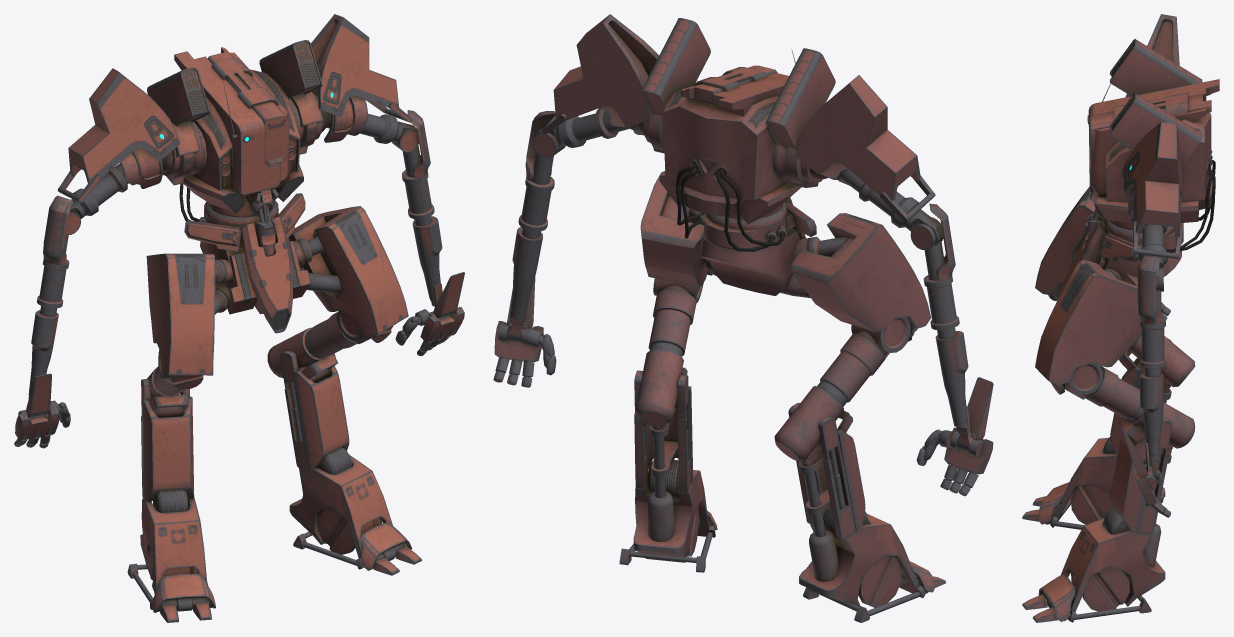
File: q-35_mecha.glb
The picture shows the model from 3 angles, left to right: view 1: azimuth 30°, elevation 25°; view 2: azimuth 150°, elevation 25°; view 3: azimuth 270°, elevation 25°; orthographic projection. The views are drawn at different scales.
Visible parts, largest first — view 1: i_low, h_low, m_low, a_low, r_low, l_low, p_low, j_low, k_low, q_low, n_low; view 2: i_low, m_low, h_low, r_low, a_low, p_low, l_low, g_low, j_low, q_low, n_low; view 3: i_low, m_low, h_low, a_low, r_low, p_low, g_low, k_low, n_low, q_low.
Part boxes in pixels (<box>): i_low: <box>127,193,421,622</box>; h_low: <box>14,95,464,448</box>; m_low: <box>68,14,399,183</box>; a_low: <box>174,47,289,314</box>; r_low: <box>183,69,303,213</box>; l_low: <box>162,91,322,185</box>; p_low: <box>141,351,326,500</box>; j_low: <box>214,236,340,314</box>; k_low: <box>149,326,392,411</box>; q_low: <box>153,447,352,512</box>; n_low: <box>211,58,278,109</box>; i_low: <box>619,171,945,622</box>; m_low: <box>553,14,920,200</box>; h_low: <box>493,106,993,496</box>; r_low: <box>659,87,801,224</box>; a_low: <box>681,65,799,295</box>; p_low: <box>634,370,855,538</box>; l_low: <box>643,112,822,187</box>; g_low: <box>676,163,783,251</box>; j_low: <box>689,208,847,297</box>; q_low: <box>647,460,868,540</box>; n_low: <box>693,67,767,91</box>; i_low: <box>1022,186,1195,622</box>; m_low: <box>1109,14,1202,240</box>; h_low: <box>1121,186,1183,517</box>; a_low: <box>1087,79,1219,279</box>; r_low: <box>1096,112,1212,223</box>; p_low: <box>1137,338,1172,534</box>; g_low: <box>1165,155,1215,252</box>; k_low: <box>1048,288,1145,442</box>; n_low: <box>1114,92,1188,119</box>; q_low: <box>1103,437,1129,534</box>.
Bounding box in the file's own units: 4.64 × 5.02 × 1.81.
Materials: 3 (3 with a texture image).
